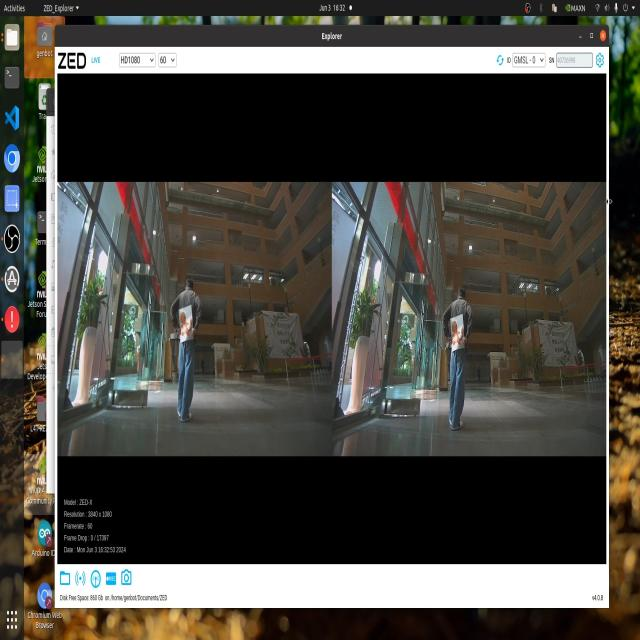red: (448, 314, 466, 352), (181, 310, 192, 348)
